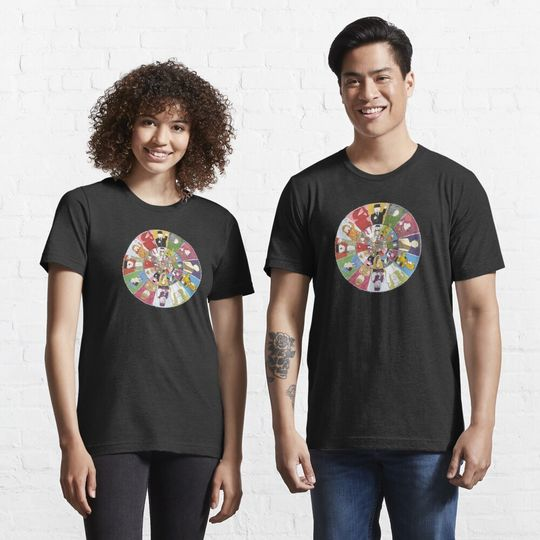design: (332, 199, 424, 294), (118, 226, 205, 310)
